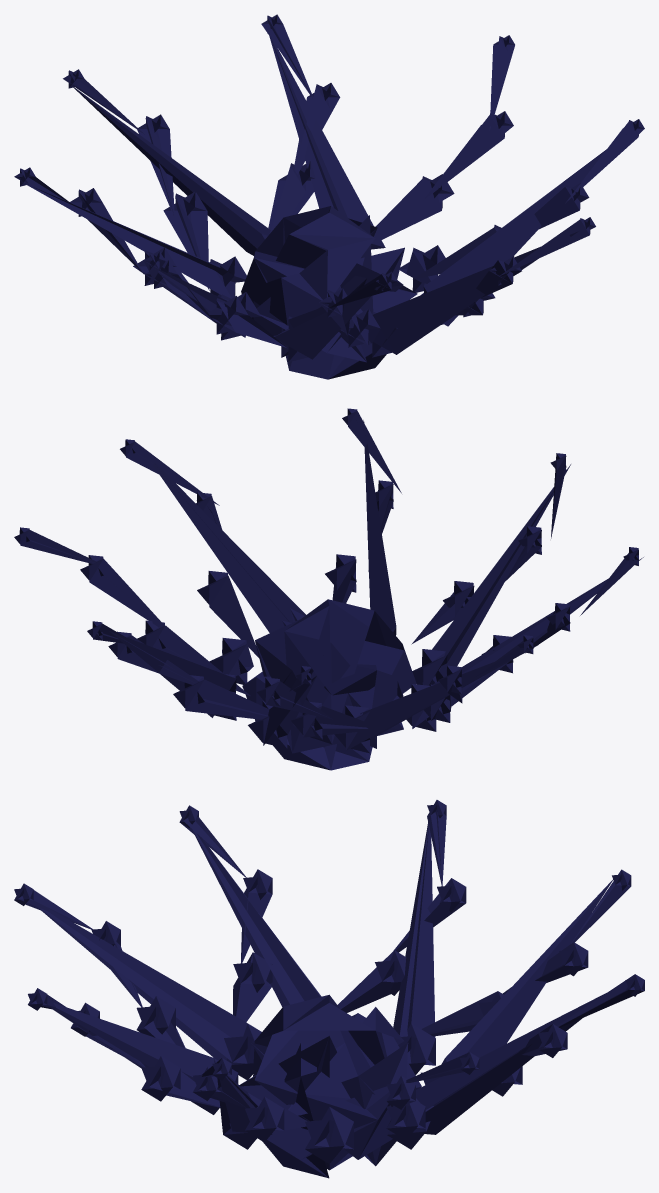
Rendered from void_tentacle.obj.
3 renders of one model, top to bottom at view 1: azimuth 30°, elevation 25°; view 2: azimuth 150°, elevation 25°; view 3: azimuth 270°, elevation 25°, orthographic. The views are drawn at different scales.
Parts seen in each view (by area): view 1: void_tentacle; view 2: void_tentacle; view 3: void_tentacle.
Part boxes in pixels (x1,y1,x2,y2): void_tentacle: (14, 14, 644, 379); void_tentacle: (14, 408, 643, 770); void_tentacle: (14, 800, 644, 1178).
Size of the model in its own units: 5.45 by 2.28 by 5.45.
